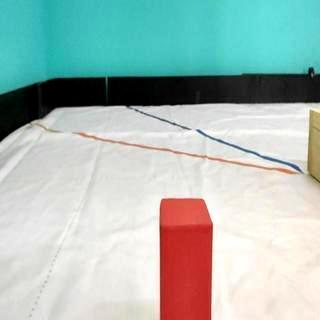redbox: (160, 199, 211, 320)
